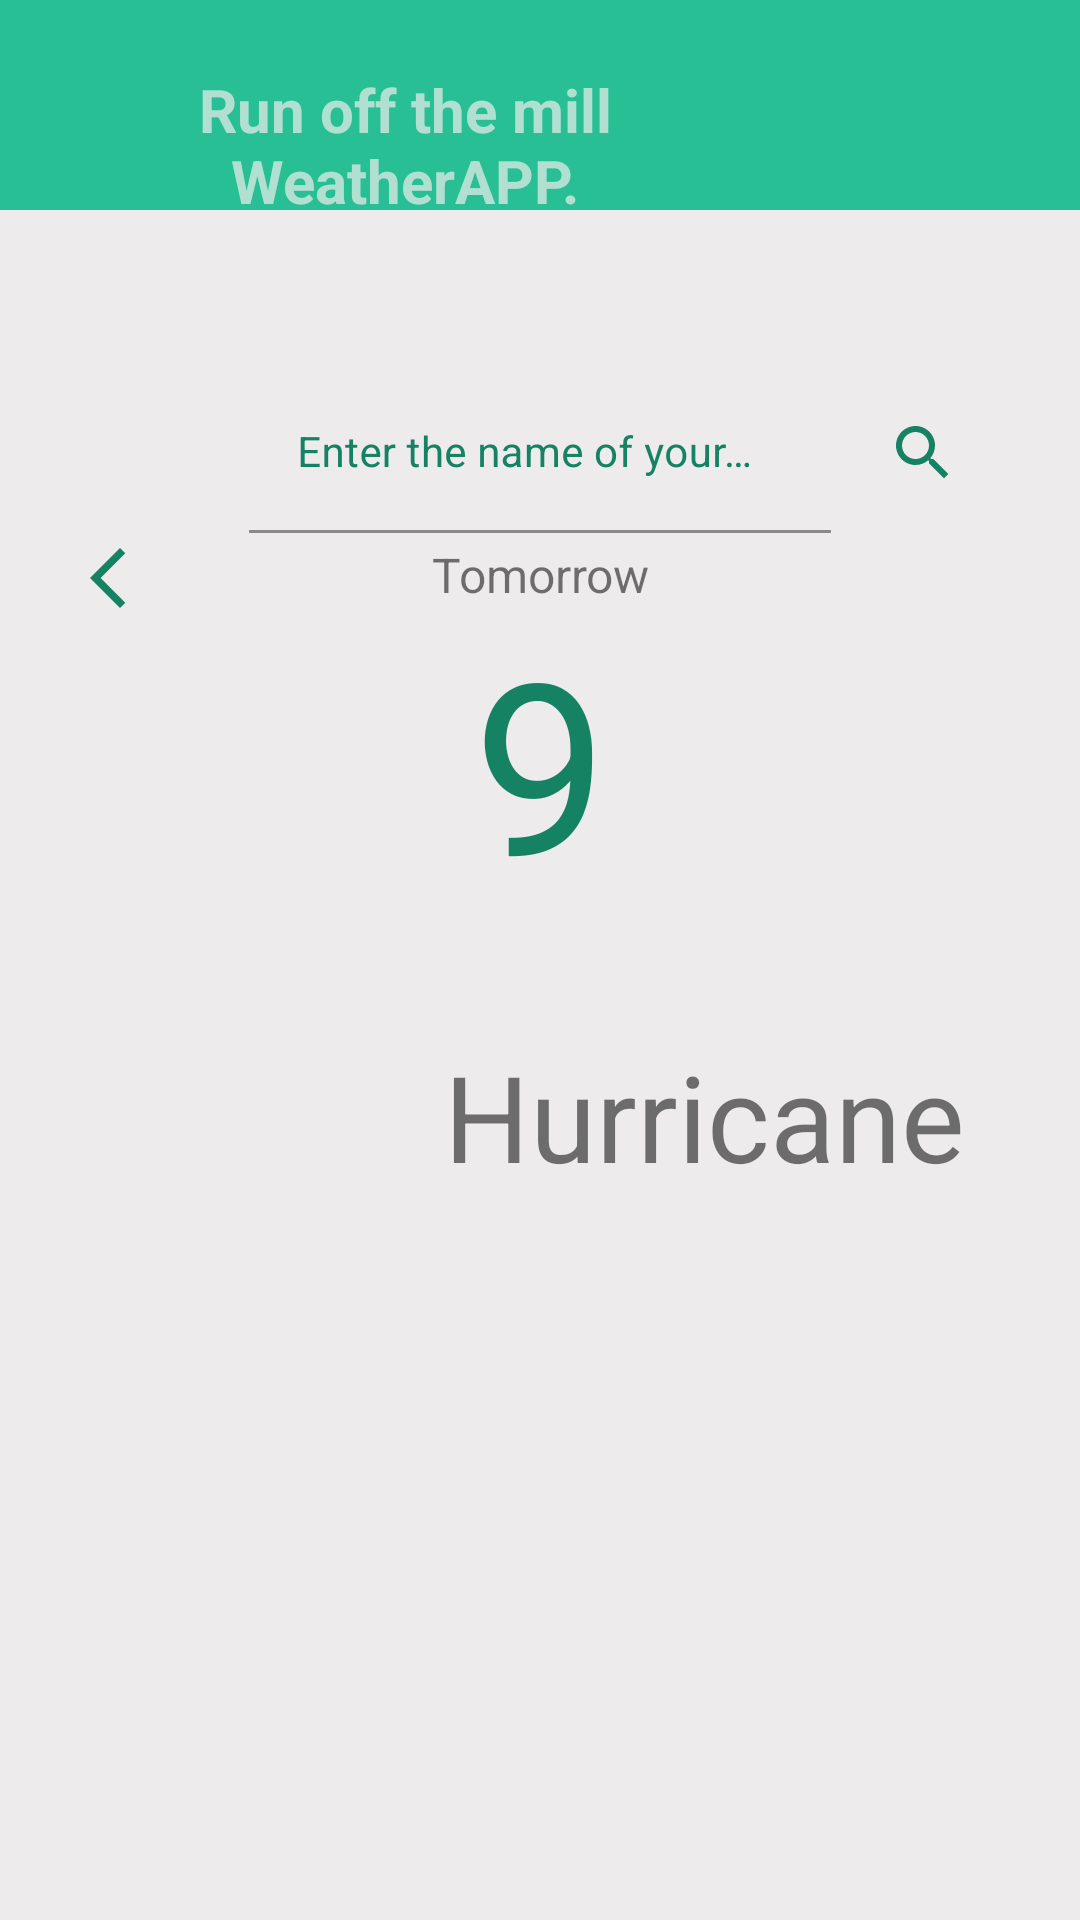

Where icons sit on this 1080 x 1920 app screen, as detection(x1, y1, x2, y2):
arrow back: detection(90, 548, 125, 608)
search: detection(896, 426, 948, 478)
